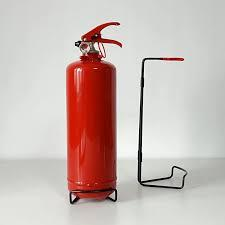floor-kept: (48, 14, 132, 218)
